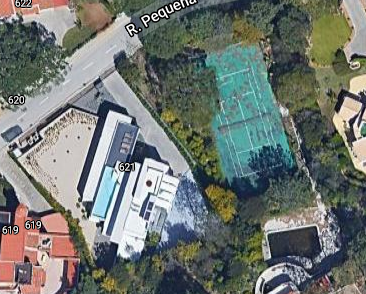pool: (101, 170, 114, 223)
